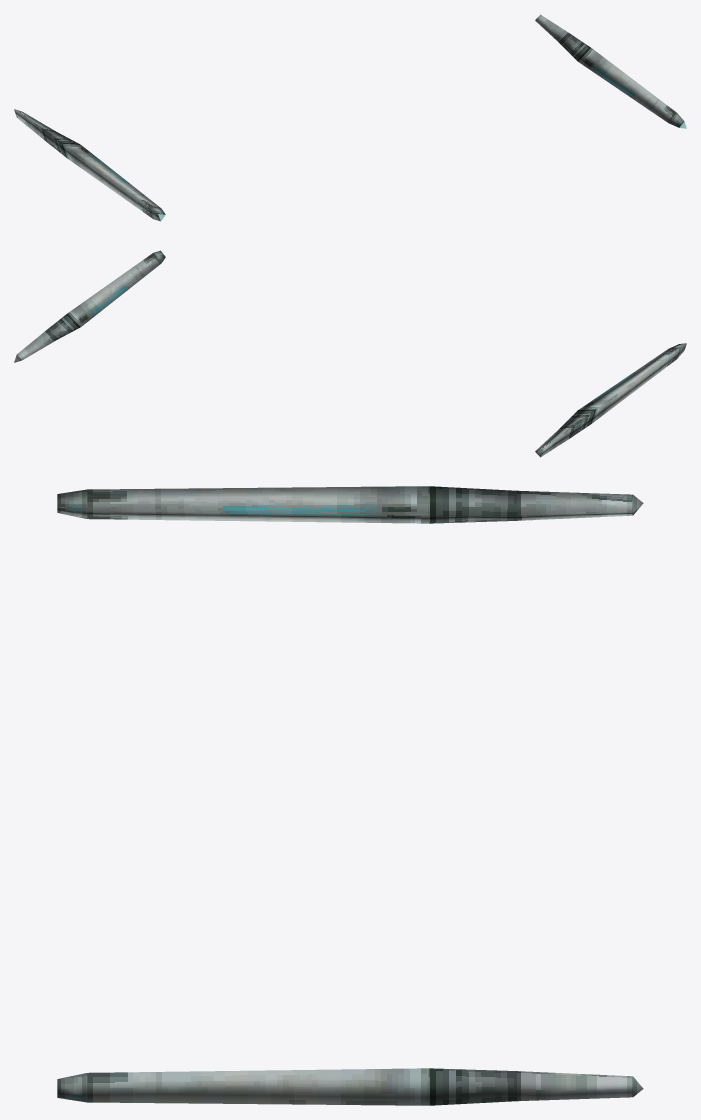
File: xwing_weapon1_pos_s02_l3.fbx
3 renders of one model, top to bottom at view 1: azimuth 30°, elevation 25°; view 2: azimuth 150°, elevation 25°; view 3: azimuth 270°, elevation 25°, orthographic. The views are drawn at different scales.
Parts seen in each view (by area): view 1: mesh_node; view 2: mesh_node; view 3: mesh_node.
Part boxes in pixels (box(x1,y1,x2,y2)): mesh_node: box(14, 14, 686, 221); mesh_node: box(14, 250, 686, 457); mesh_node: box(57, 486, 643, 1105).
Size of the model in its own units: 13.63 by 1.2 by 6.48.
Materials: 1 (1 with a texture image).
